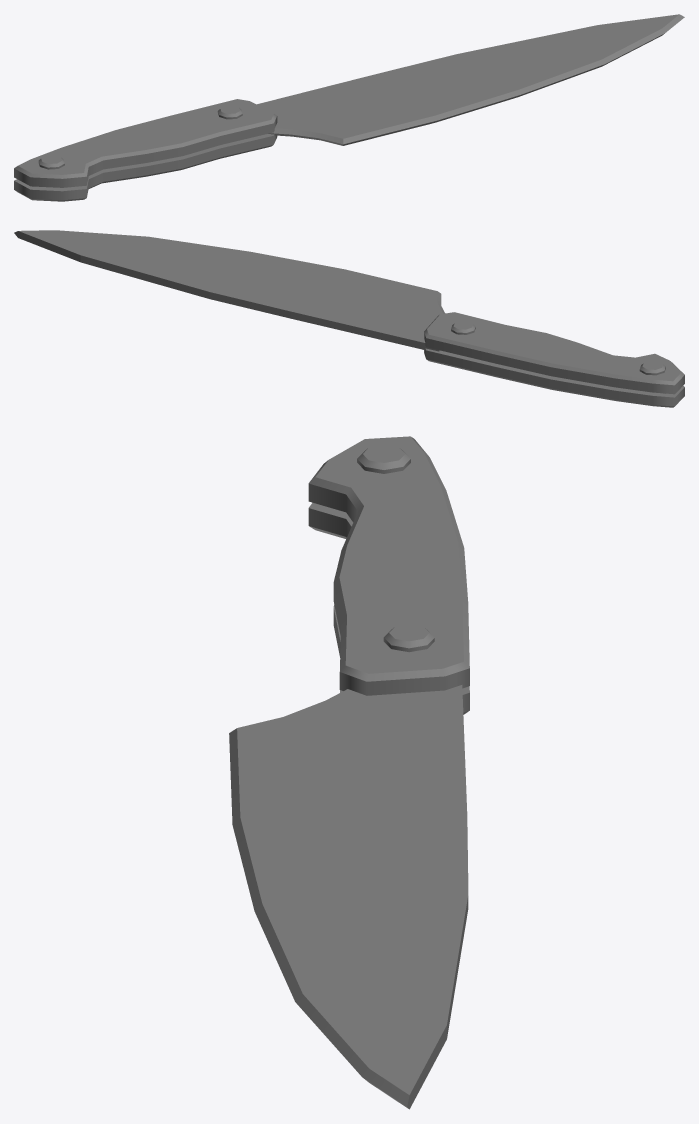
File: Knife_Mesh_vc.fbx
The picture shows the model from 3 angles, top to bottom: view 1: azimuth 30°, elevation 25°; view 2: azimuth 150°, elevation 25°; view 3: azimuth 270°, elevation 25°; orthographic projection. The views are drawn at different scales.
Parts seen in each view (by area): view 1: Knife_vc1; view 2: Knife_vc1; view 3: Knife_vc1.
Boxes of the visible parts, x1,y1,x2,y2 form: Knife_vc1: (14,14,684,201); Knife_vc1: (14,230,684,407); Knife_vc1: (229,436,469,1109).
Bounding box in the file's own units: 775 × 39.3 × 122.
Materials: 1 (1 with a texture image).
